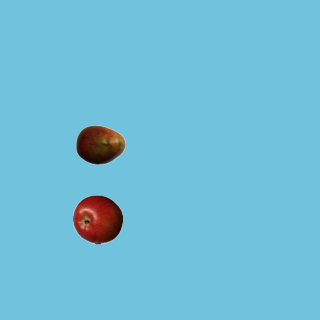Apple Braeburn: (72, 194, 122, 244)
Mango Red: (75, 119, 125, 169)
